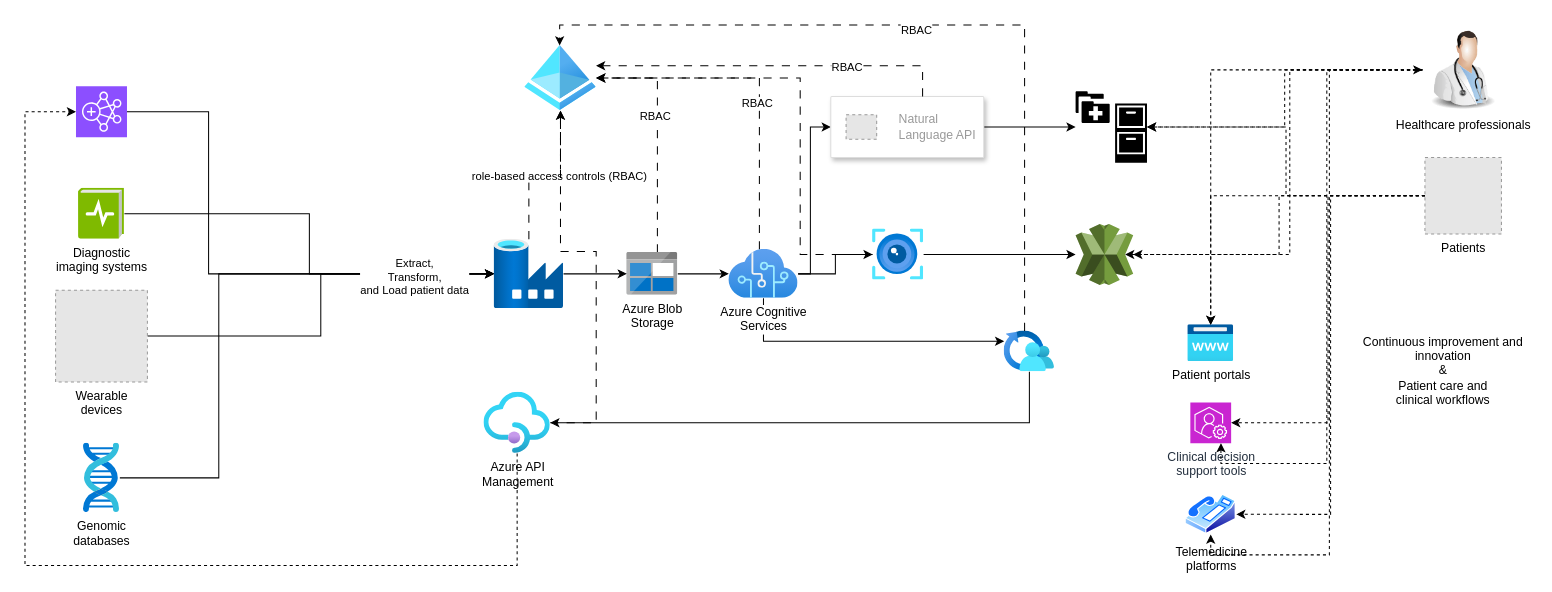
Some shapes in this 1552 by 592 pixel diagram are drawn without their labels. Grey dashed boxes stand in for pictures. Here are the shapes that lost their labels. From the top down, the centre of each, then its label:
(101,111): EMR systems
(1110,126): Medical notes and reports
(528,273): Azure Data Factory
(1104,254): Diagnostic images
(1029,350): Personalized treatment recommendations
